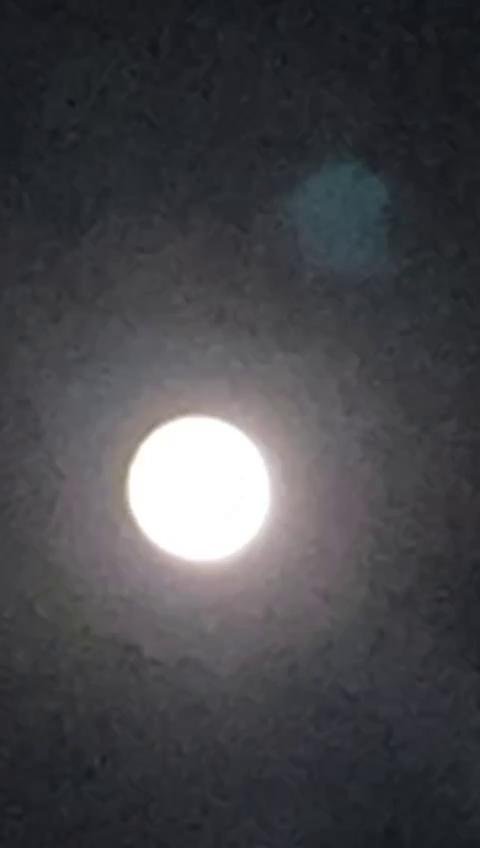moon: (122, 389, 288, 580)
